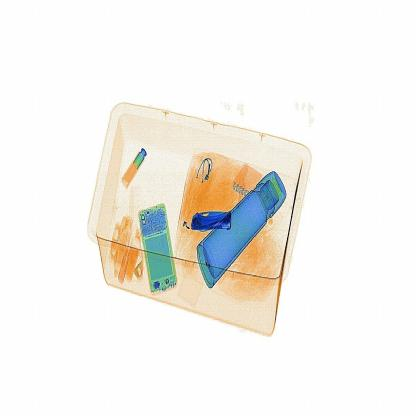knife: (189, 207, 237, 236)
